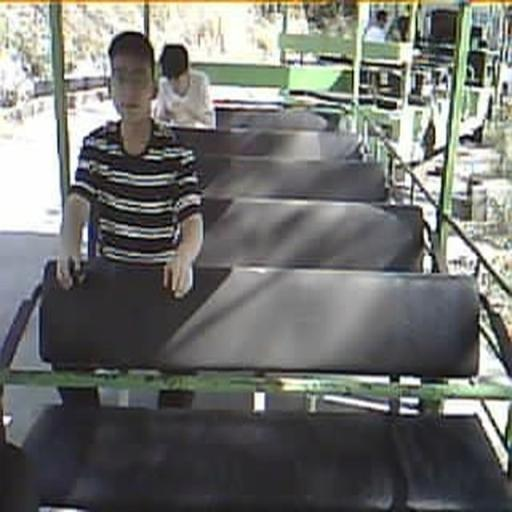persona: (56, 30, 206, 300), (152, 42, 216, 130)
